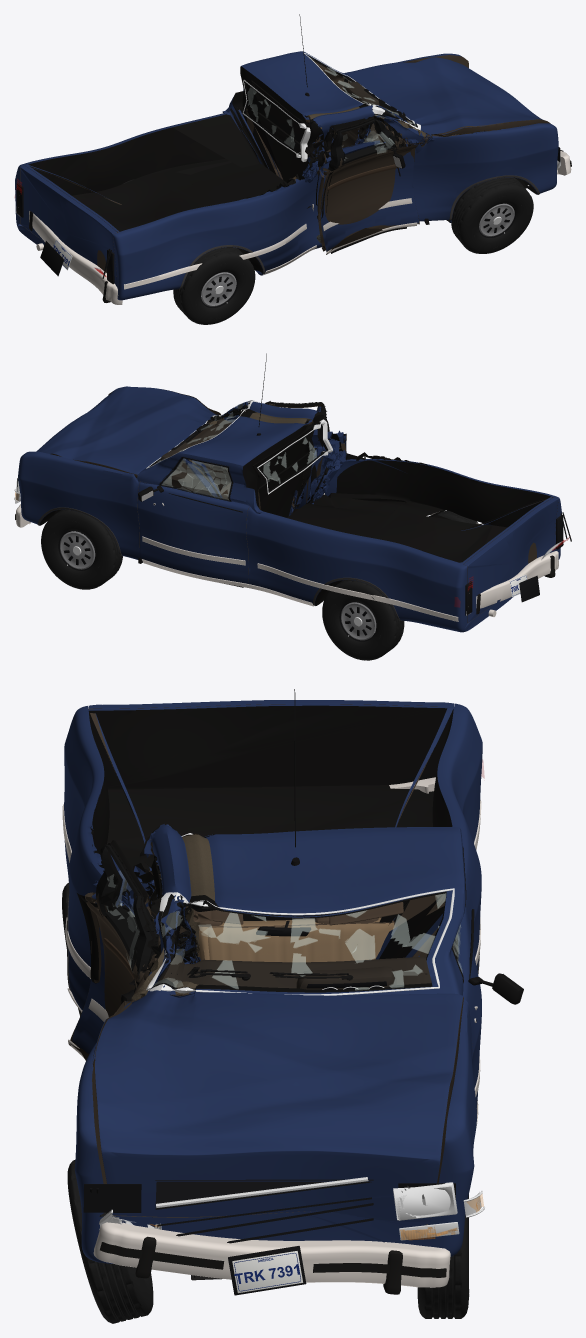
The model's file is pickup87_side_R_d2.glb.
3 views of the same model, one above another, from view 1: azimuth 30°, elevation 25°; view 2: azimuth 150°, elevation 25°; view 3: azimuth 270°, elevation 25° (orthographic). The views are drawn at different scales.
Visible parts, largest first — view 1: Body, Hood, Door_FR, Wheel_FR_mesh, Tailgate, Wheel_RR_mesh, Trim, Glass, Bumper_R, Ends, Glass_FR, Trim_FR (+1 smaller); view 2: Body, Hood, Door_FL, Wheel_FL_mesh, Wheel_RL_mesh, Tailgate, Trim, Glass, Interior, Trim_FL, Glass_FL, Bumper_R (+2 smaller); view 3: Body, Hood, Interior, Ends, Bumper_F, Glass, Door_FR, Wheel_FR_mesh, Glass_FR, Wheel_FL_mesh, Trim, Door_FL (+3 smaller).
Boxes of the visible parts, left/top/right/bottom form: Body: left=15, top=51, right=558, bottom=300; Hood: left=344, top=57, right=550, bottom=138; Door_FR: left=317, top=117, right=419, bottom=253; Wheel_FR_mesh: left=451, top=177, right=533, bottom=253; Tailgate: left=20, top=165, right=117, bottom=286; Wheel_RR_mesh: left=173, top=247, right=255, bottom=324; Trim: left=124, top=14, right=539, bottom=289; Glass: left=242, top=53, right=420, bottom=161; Bumper_R: left=29, top=211, right=122, bottom=304; Ends: left=16, top=147, right=560, bottom=284; Glass_FR: left=328, top=119, right=398, bottom=168; Trim_FR: left=323, top=118, right=417, bottom=254; Body: left=18, top=391, right=561, bottom=632; Hood: left=36, top=386, right=218, bottom=478; Door_FL: left=137, top=456, right=249, bottom=583; Wheel_FL_mesh: left=41, top=509, right=122, bottom=589; Wheel_RL_mesh: left=322, top=580, right=404, bottom=660; Tailgate: left=463, top=497, right=558, bottom=622; Trim: left=37, top=353, right=485, bottom=621; Glass: left=146, top=400, right=332, bottom=494; Interior: left=161, top=419, right=231, bottom=499; Trim_FL: left=138, top=457, right=249, bottom=588; Glass_FL: left=161, top=458, right=231, bottom=501; Bumper_R: left=476, top=551, right=558, bottom=614; Body: left=64, top=703, right=482, bottom=1263; Hood: left=94, top=990, right=463, bottom=1224; Interior: left=157, top=902, right=431, bottom=989; Ends: left=83, top=1177, right=485, bottom=1295; Bumper_F: left=93, top=1222, right=450, bottom=1294; Glass: left=146, top=833, right=454, bottom=995; Door_FR: left=69, top=840, right=158, bottom=1060; Wheel_FR_mesh: left=67, top=1160, right=153, bottom=1323; Glass_FR: left=96, top=844, right=158, bottom=987; Wheel_FL_mesh: left=417, top=1194, right=469, bottom=1318; Trim: left=62, top=689, right=481, bottom=1012; Door_FL: left=434, top=893, right=481, bottom=1107.
Bounding box in the file's own units: 5.16 × 2.44 × 2.12.
34 materials, 5 textured.
